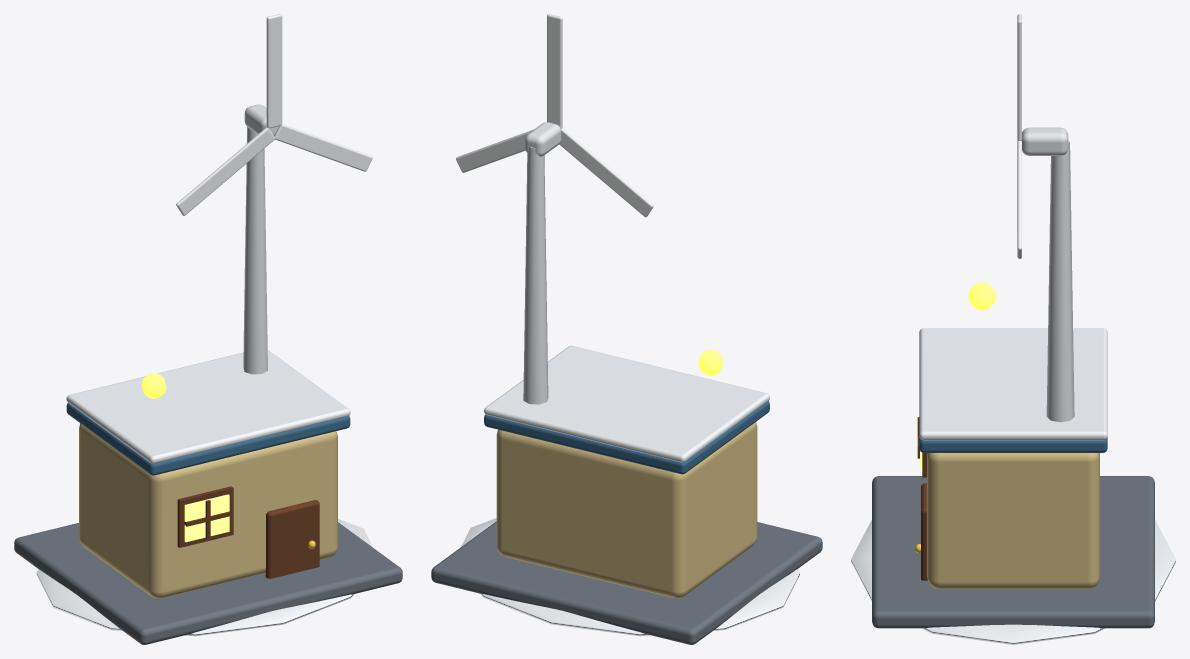
Rendered from power_plant.glb.
3 renders of one model, left to right at view 1: azimuth 30°, elevation 25°; view 2: azimuth 150°, elevation 25°; view 3: azimuth 270°, elevation 25°, orthographic. The views are drawn at different scales.
Parts seen in each view (by area): view 1: n3282, n3284, n3280, n3291, n3289, n3281, n3283, n3295, n3297, n3299, n3286, n3285 (+1 smaller); view 2: n3282, n3284, n3280, n3291, n3281, n3283, n3297, n3295, n3299, n3293; view 3: n3282, n3280, n3284, n3291, n3281, n3283, n3293, n3295, n3301, n3299, n3289.
Boxes of the visible parts, x1=… form: n3282: x1=79, y1=423, x2=337, y2=598; n3284: x1=66, y1=350, x2=350, y2=463; n3280: x1=14, y1=522, x2=402, y2=644; n3291: x1=243, y1=127, x2=267, y2=374; n3289: x1=265, y1=500, x2=319, y2=578; n3281: x1=36, y1=519, x2=373, y2=636; n3283: x1=66, y1=403, x2=350, y2=475; n3295: x1=266, y1=14, x2=282, y2=128; n3297: x1=176, y1=127, x2=274, y2=215; n3299: x1=274, y1=124, x2=372, y2=171; n3286: x1=184, y1=494, x2=229, y2=542; n3285: x1=177, y1=486, x2=233, y2=547; n3282: x1=496, y1=422, x2=757, y2=598; n3284: x1=484, y1=345, x2=769, y2=462; n3280: x1=431, y1=521, x2=822, y2=644; n3291: x1=523, y1=147, x2=548, y2=404; n3281: x1=461, y1=518, x2=799, y2=636; n3283: x1=484, y1=401, x2=769, y2=474; n3297: x1=559, y1=128, x2=653, y2=217; n3295: x1=547, y1=14, x2=562, y2=128; n3299: x1=456, y1=129, x2=533, y2=172; n3293: x1=525, y1=122, x2=561, y2=156; n3282: x1=927, y1=453, x2=1099, y2=589; n3280: x1=872, y1=476, x2=1154, y2=628; n3284: x1=919, y1=328, x2=1107, y2=440; n3291: x1=1046, y1=140, x2=1074, y2=422; n3281: x1=851, y1=520, x2=1175, y2=644; n3283: x1=919, y1=437, x2=1107, y2=452; n3293: x1=1021, y1=127, x2=1068, y2=155; n3295: x1=1017, y1=14, x2=1021, y2=140; n3301: x1=968, y1=282, x2=995, y2=310; n3299: x1=1017, y1=141, x2=1021, y2=258; n3289: x1=921, y1=483, x2=927, y2=580.
Bounding box in the file's own units: 2.57 × 4.15 × 2.07.
